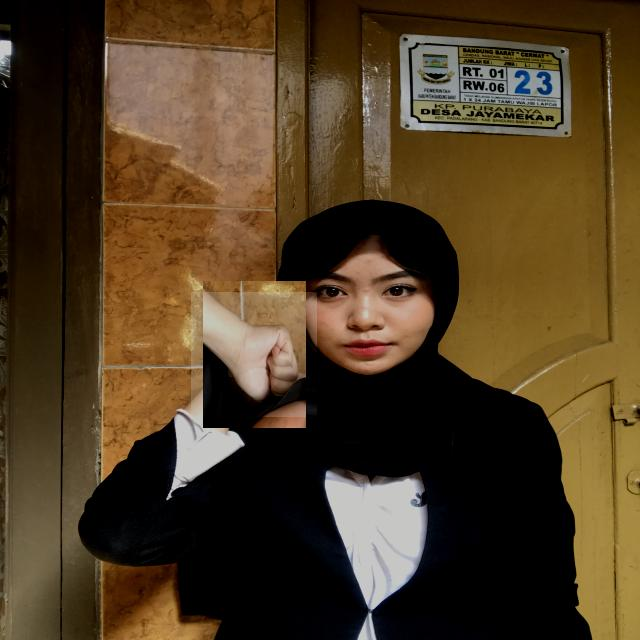ibu: (191, 292, 317, 417)
